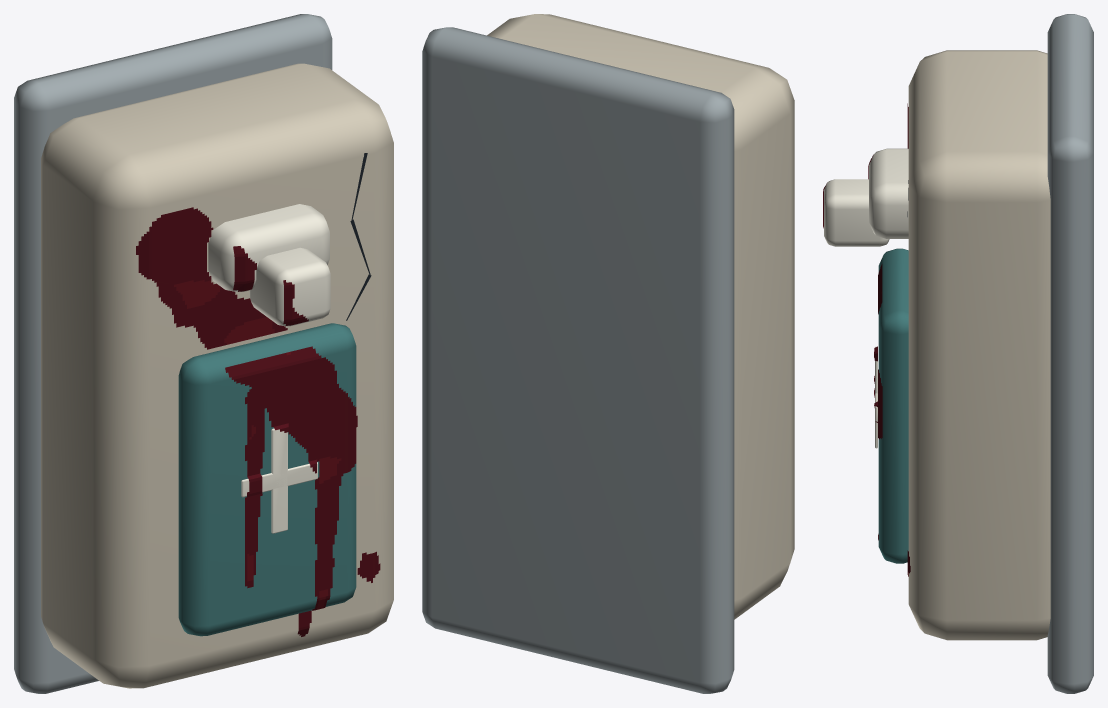
The model's file is wall_sanitizer.glb.
3 renders of one model, left to right at view 1: azimuth 30°, elevation 25°; view 2: azimuth 150°, elevation 25°; view 3: azimuth 270°, elevation 25°, orthographic. The views are drawn at different scales.
Parts seen in each view (by area): view 1: Wall_Sanitizer_Outbreak_Static; view 2: Wall_Sanitizer_Outbreak_Static; view 3: Wall_Sanitizer_Outbreak_Static.
Boxes of the visible parts, x1,y1,x2,y2 form: Wall_Sanitizer_Outbreak_Static: (14,14,393,693); Wall_Sanitizer_Outbreak_Static: (422,14,794,693); Wall_Sanitizer_Outbreak_Static: (823,14,1093,693).
Bounding box in the file's own units: 0.17 × 0.32 × 0.141.
